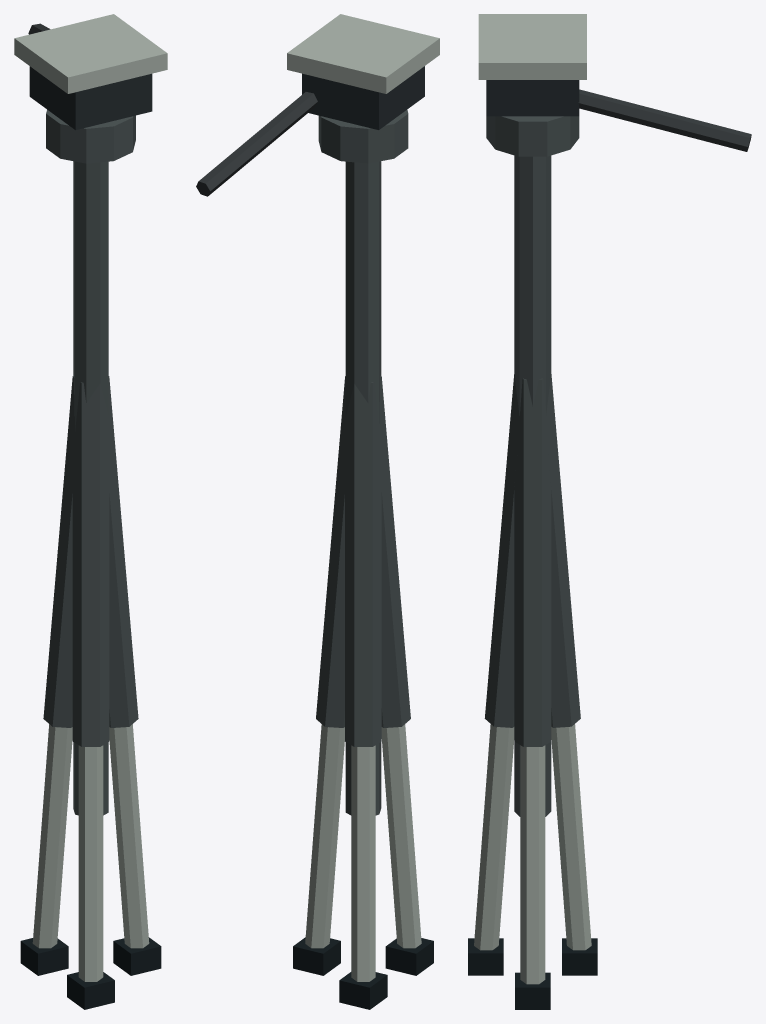
Rendered from blender_tripod_1_folded.glb.
3 views of the same model, side by side, from view 1: azimuth 30°, elevation 25°; view 2: azimuth 150°, elevation 25°; view 3: azimuth 270°, elevation 25° (orthographic).
Parts seen in each view (by area): view 1: blender_tripod_1_folded; view 2: blender_tripod_1_folded; view 3: blender_tripod_1_folded.
Part boxes in pixels (bbox=[...]): blender_tripod_1_folded: bbox=[14, 14, 167, 1009]; blender_tripod_1_folded: bbox=[196, 14, 439, 1009]; blender_tripod_1_folded: bbox=[468, 14, 751, 1009].
Size of the model in its own units: 0.084 by 0.671 by 0.1833.
1 material, 1 textured.
